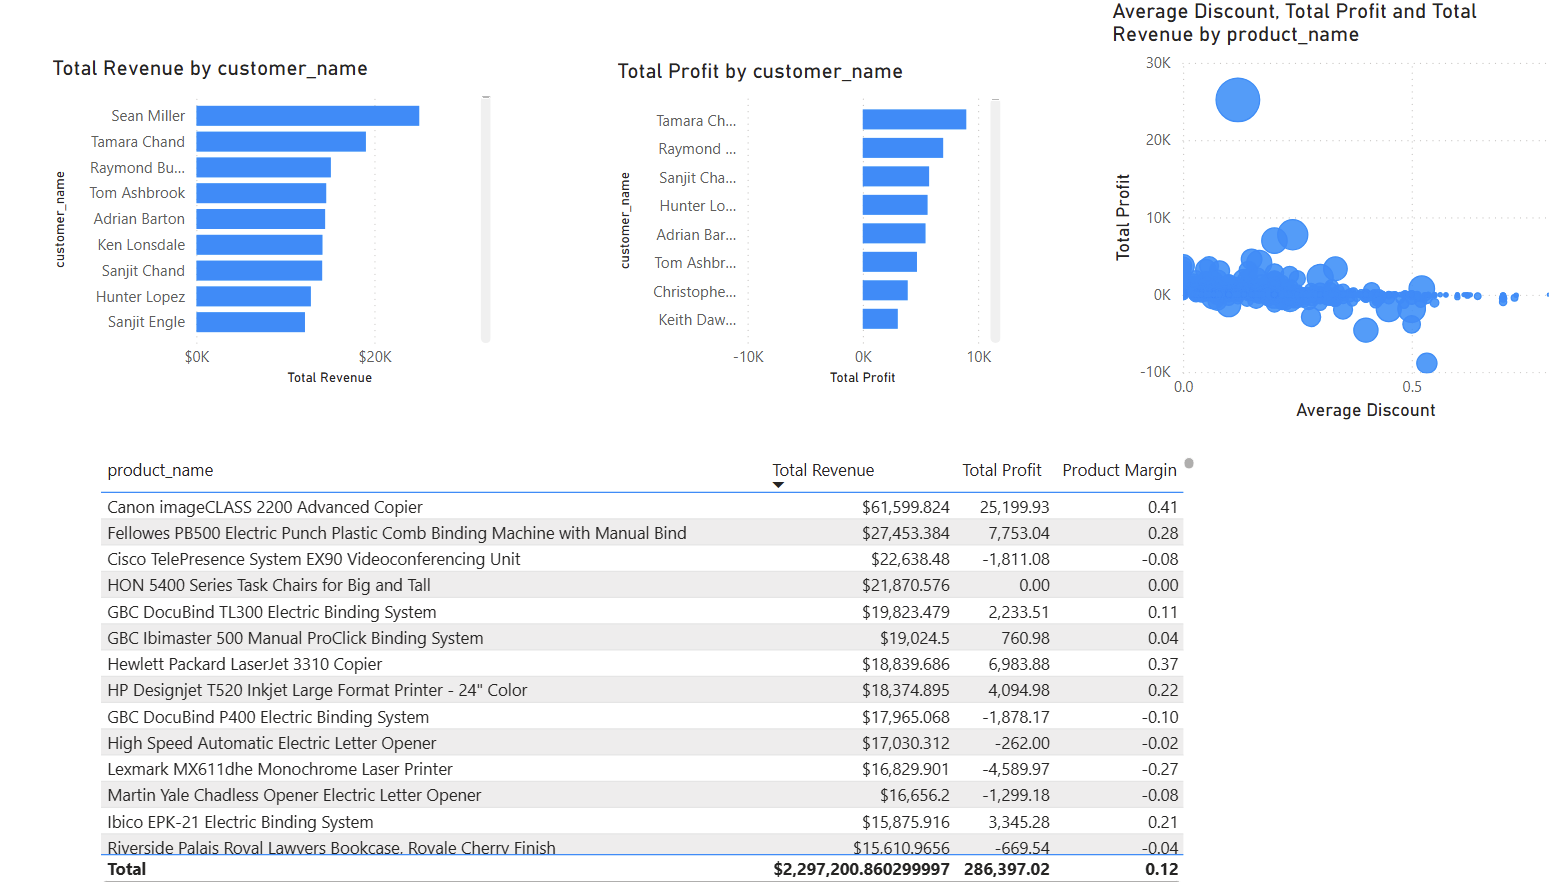

What the dashboard file says about the page in this screenshot:
{"tool":"powerbi","page":{"name":"Customer & Product Insights","canvas":[1280,720],"ordinal":1},"visuals":[{"type":"barChart","fields":{"Category":["processed_sales.customer_name"],"Y":["processed_sales.Total Revenue"]},"box":[44.3,46.4,360.7,267.9],"z":0},{"type":"barChart","fields":{"Category":["processed_sales.customer_name"],"Y":["processed_sales.Total Profit"]},"box":[495.7,48.5,316.4,265.8],"z":1000},{"type":"tableEx","fields":{"Values":["processed_sales.product_name","processed_sales.Total Revenue","processed_sales.Total Profit","processed_sales.Product Margin"]},"box":[82.4,361.2,885.9,357.6],"z":2000},{"type":"scatterChart","fields":{"X":["processed_sales.Average Discount"],"Y":["processed_sales.Total Profit"],"Size":["processed_sales.Total Revenue"],"Category":["processed_sales.product_name"]},"box":[891.8,0,367.1,342.4],"z":3000}]}

Visuals, with their boxes in screenshot pixels (x1, y1, x2, y2), scaled from the page's 1280x720 canvas onto the 1562x882 screenshot:
barChart - processed_sales.customer_name x processed_sales.Total Revenue: pyautogui.locateOnScreen(54, 57, 494, 385)
barChart - processed_sales.customer_name x processed_sales.Total Profit: pyautogui.locateOnScreen(605, 59, 991, 385)
tableEx - processed_sales.product_name x processed_sales.Total Revenue: pyautogui.locateOnScreen(101, 442, 1182, 881)
scatterChart - processed_sales.Average Discount x processed_sales.Total Profit: pyautogui.locateOnScreen(1088, 0, 1536, 419)
